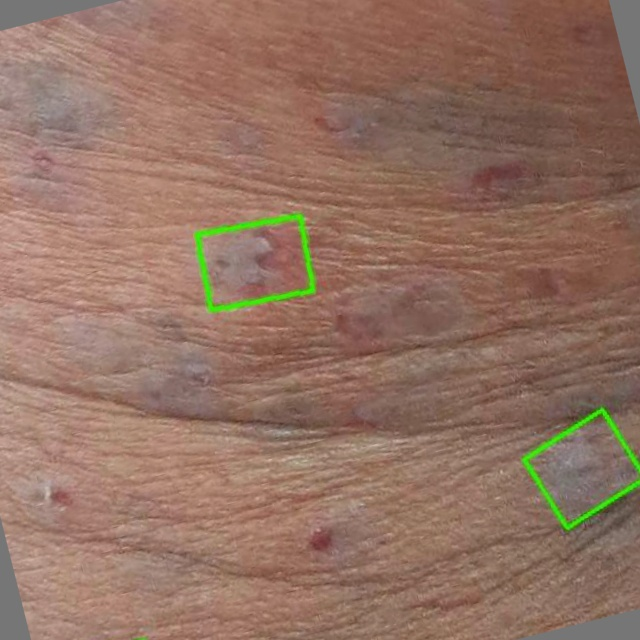Contact Dermatitis: (523, 410, 639, 528), (196, 216, 313, 310)
